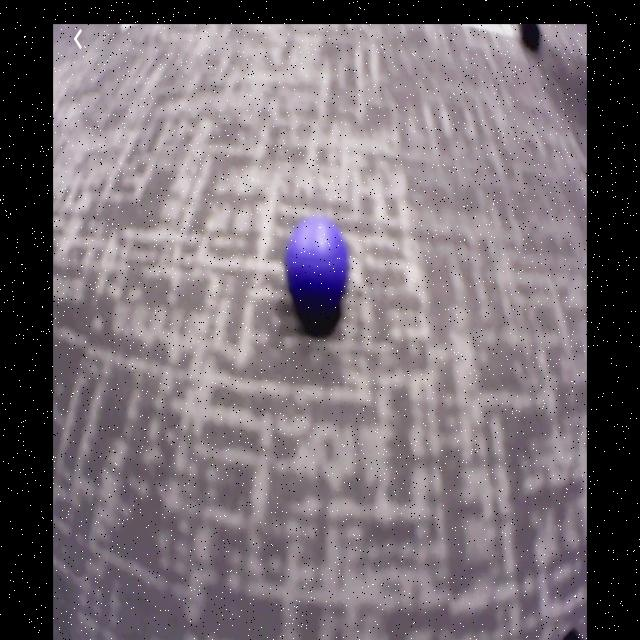ball: (287, 220, 349, 310)
